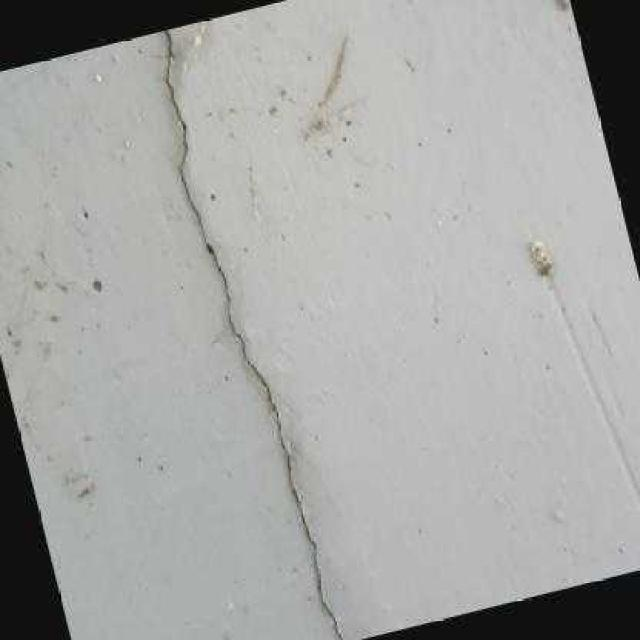D00: (163, 29, 342, 640)
